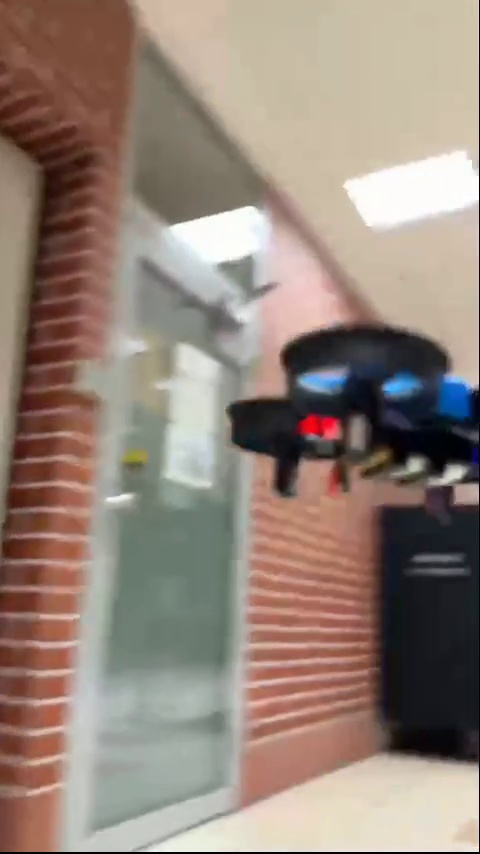drone: (218, 324, 480, 512)
